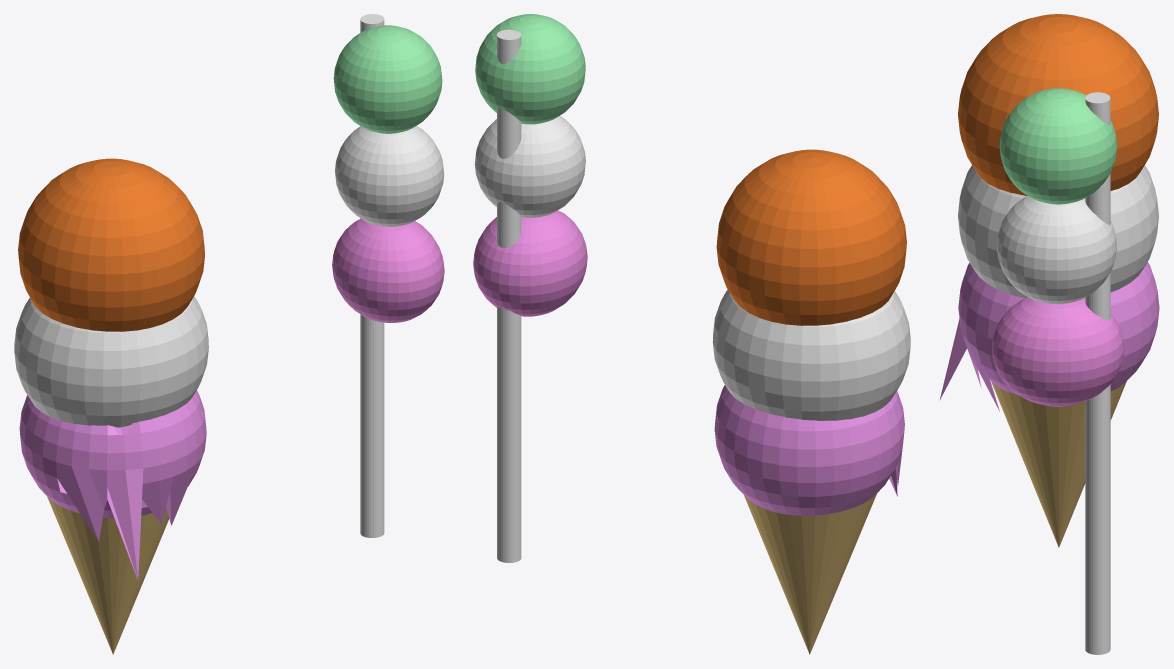
3 renders of one model, left to right at view 1: azimuth 30°, elevation 25°; view 2: azimuth 150°, elevation 25°; view 3: azimuth 270°, elevation 25°, orthographic. The views are drawn at different scales.
Visible parts, largest first — view 1: Sphere.002, Sphere.001, Sphere, Sphere.003, Sphere.005, Sphere.004, Cone, Cylinder; view 2: Sphere.002, Sphere.001, Sphere, Cylinder, Sphere.005, Sphere.003, Cone, Sphere.004; view 3: Sphere.002, Sphere.005, Sphere.003, Sphere.004, Cylinder, Sphere.001, Sphere, Cone.
Part boxes in pixels (bbox=[...]): Sphere.002: bbox=[18, 158, 204, 331]; Sphere.001: bbox=[14, 296, 208, 427]; Sphere: bbox=[19, 390, 206, 580]; Sphere.003: bbox=[333, 25, 442, 133]; Sphere.005: bbox=[332, 218, 444, 322]; Sphere.004: bbox=[335, 126, 444, 226]; Cone: bbox=[47, 496, 169, 654]; Cylinder: bbox=[360, 14, 384, 537]; Sphere.002: bbox=[716, 149, 906, 325]; Sphere.001: bbox=[712, 289, 910, 420]; Sphere: bbox=[714, 385, 904, 515]; Cylinder: bbox=[497, 29, 521, 562]; Sphere.005: bbox=[473, 210, 587, 316]; Sphere.003: bbox=[475, 14, 585, 124]; Cone: bbox=[744, 494, 876, 654]; Sphere.004: bbox=[474, 116, 585, 218]; Sphere.002: bbox=[958, 14, 1158, 195]; Sphere.005: bbox=[991, 297, 1124, 406]; Sphere.003: bbox=[999, 88, 1117, 204]; Sphere.004: bbox=[997, 196, 1116, 304]; Cylinder: bbox=[1085, 92, 1110, 654]; Sphere.001: bbox=[958, 165, 1158, 298]; Sphere: bbox=[939, 262, 1159, 411]; Cone: bbox=[991, 381, 1126, 547].
Size of the model in its own units: 505 by 656 by 219.
